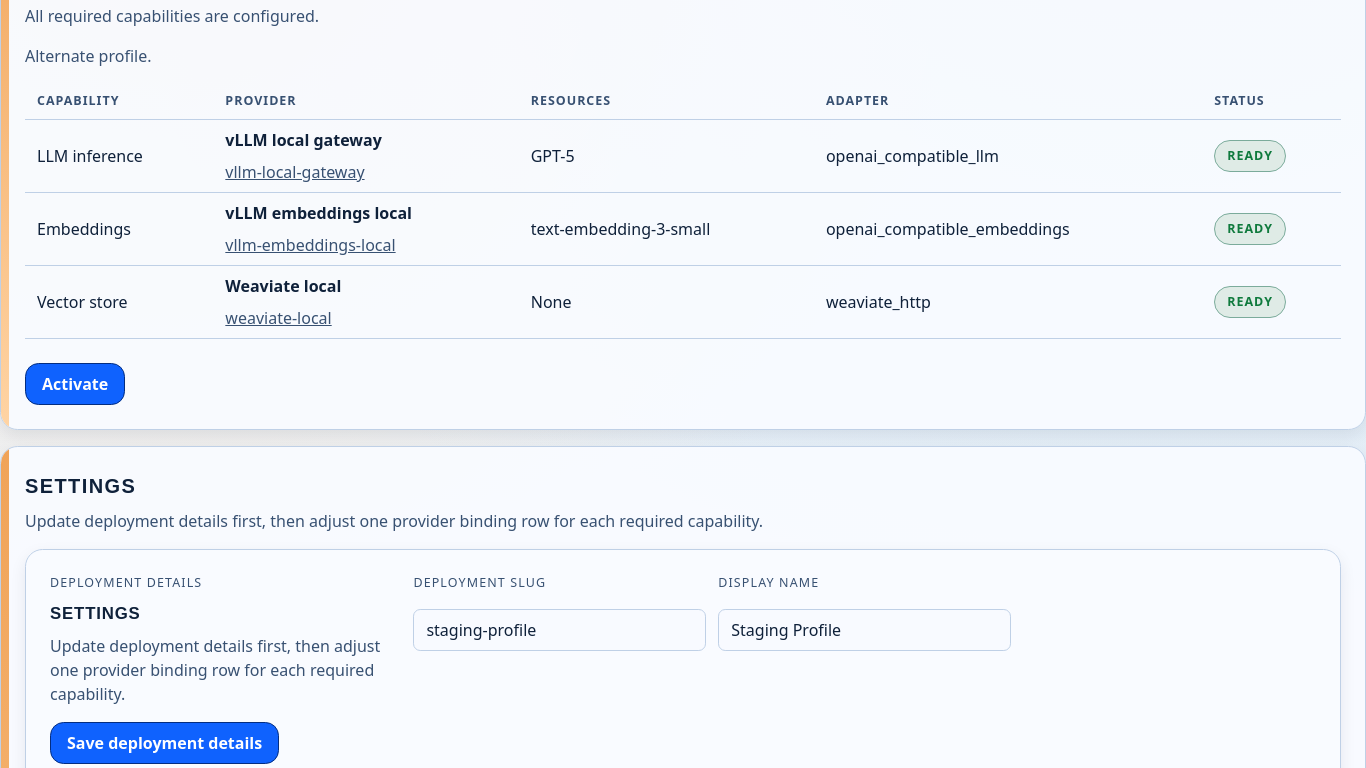
Test: PlatformDeploymentDetailPage › surfaces provider-level activation validation details
(page scrolled)
Click the button "Activate" at x=75, y=384, box x1=25 y1=363 x2=125 y2=405
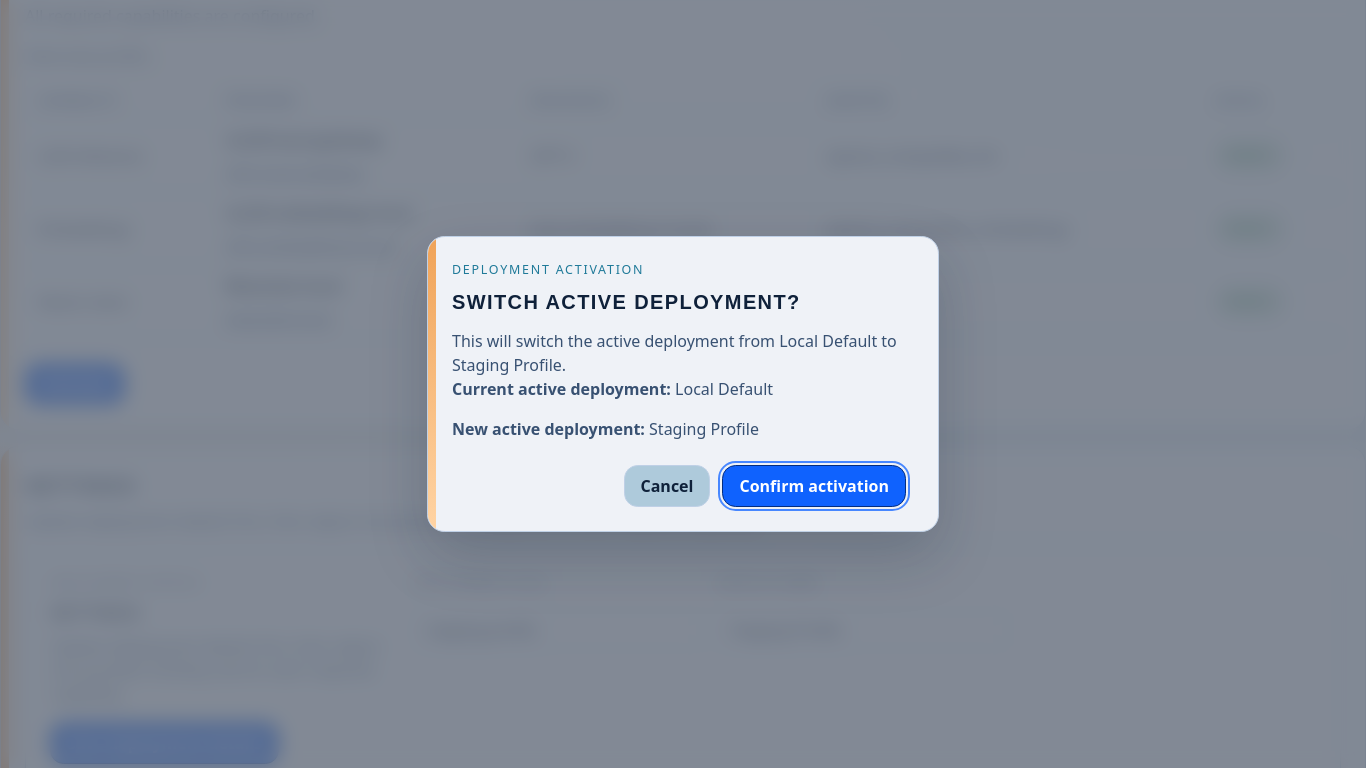
Click the button "Confirm activation" at x=814, y=486, box x1=722 y1=465 x2=906 y2=507
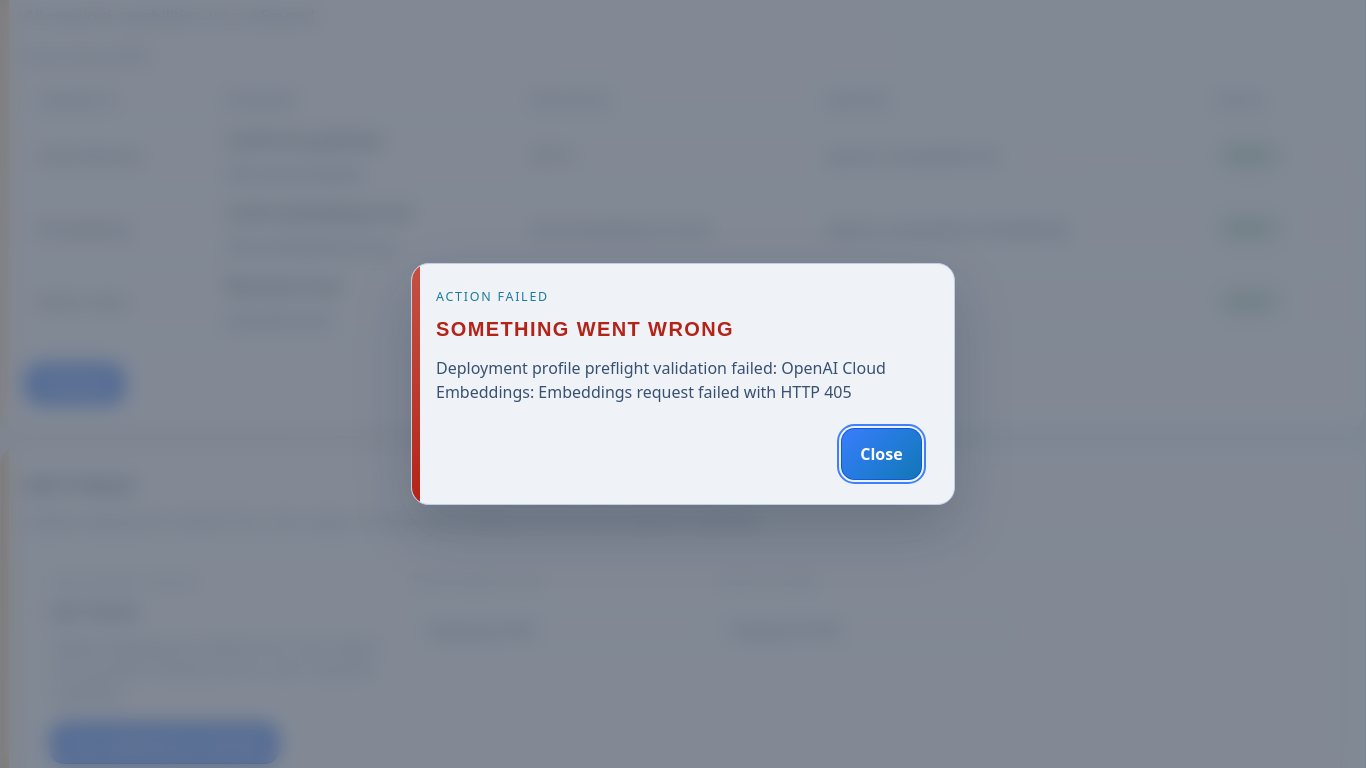
Expected: the text "Deployment profile preflight validation failed: OpenAI Cloud Embeddings: Embeddings request failed with HTTP 405" is shown, x1=436 y1=357 x2=886 y2=403
